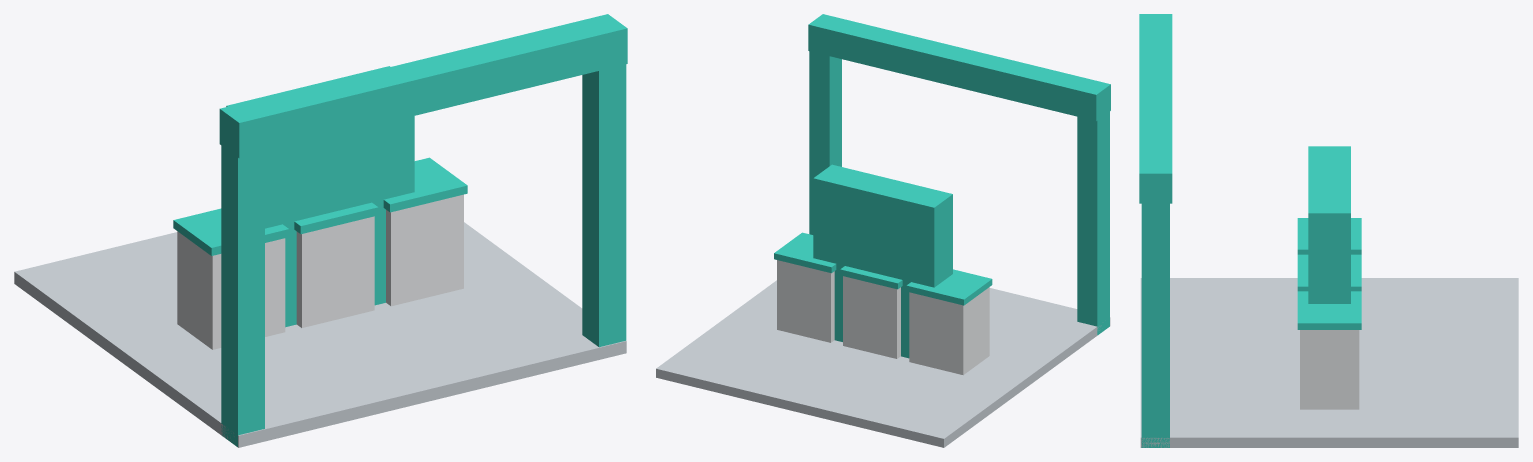
The picture shows the model from 3 angles, left to right: view 1: azimuth 30°, elevation 25°; view 2: azimuth 150°, elevation 25°; view 3: azimuth 270°, elevation 25°; orthographic projection. The views are drawn at different scales.
Parts seen in each view (by area): view 1: Exhibition Booth Concept; view 2: Exhibition Booth Concept; view 3: Exhibition Booth Concept.
Part boxes in pixels (box(x1,y1,x2,y2)): Exhibition Booth Concept: box(14, 14, 627, 447); Exhibition Booth Concept: box(656, 14, 1110, 447); Exhibition Booth Concept: box(1139, 14, 1518, 447).
Bounding box in the file's own units: 4 × 3.2 × 4.02.
